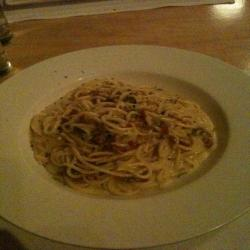carbonara: (24, 71, 221, 200)
